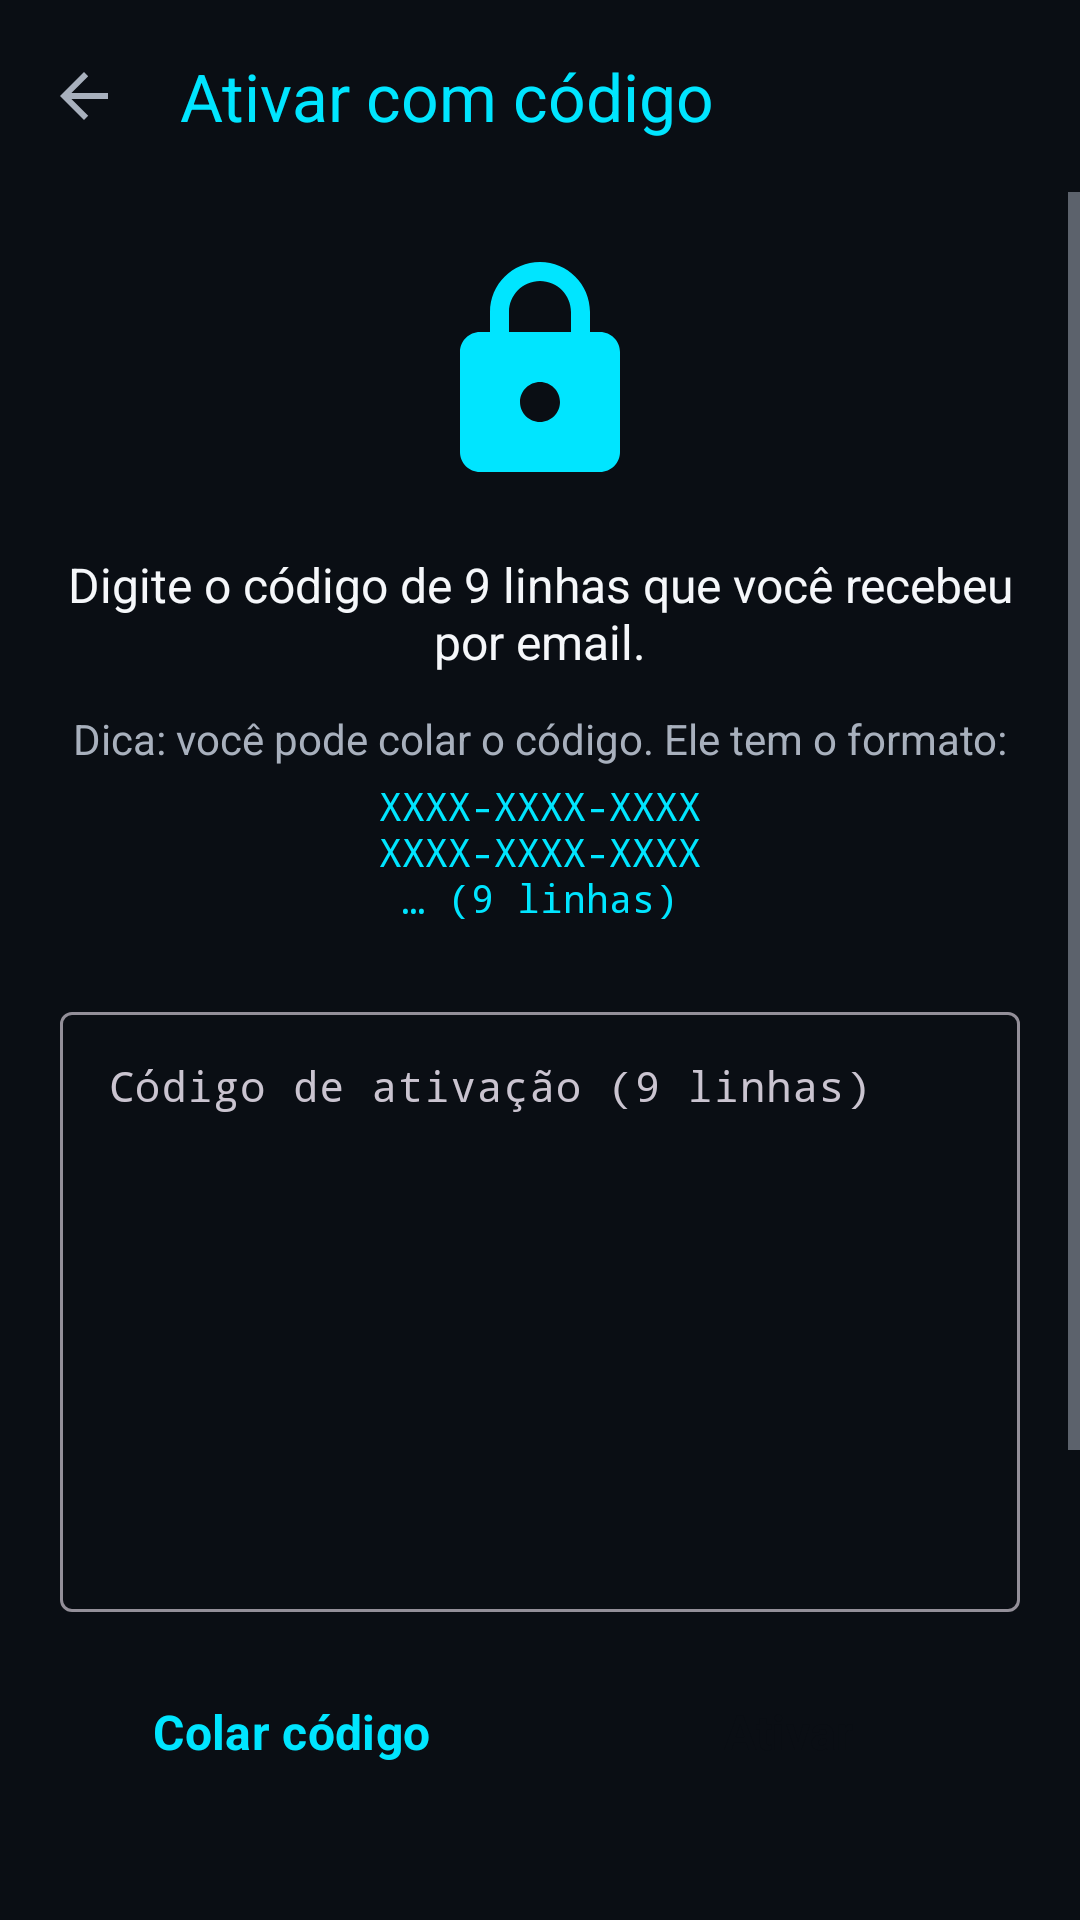

Point at icon controls on the screen. Image size 1080*1920, points as point (x, y).
lock: point (540, 367)
